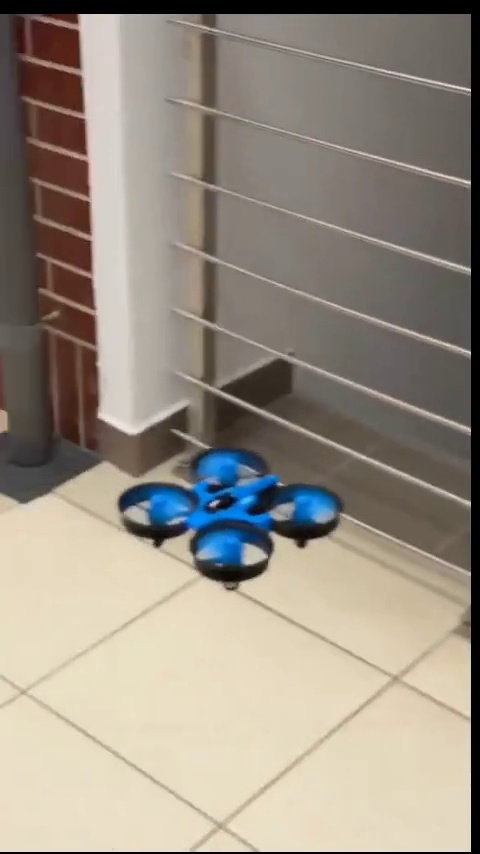drone: (112, 446, 345, 595)
